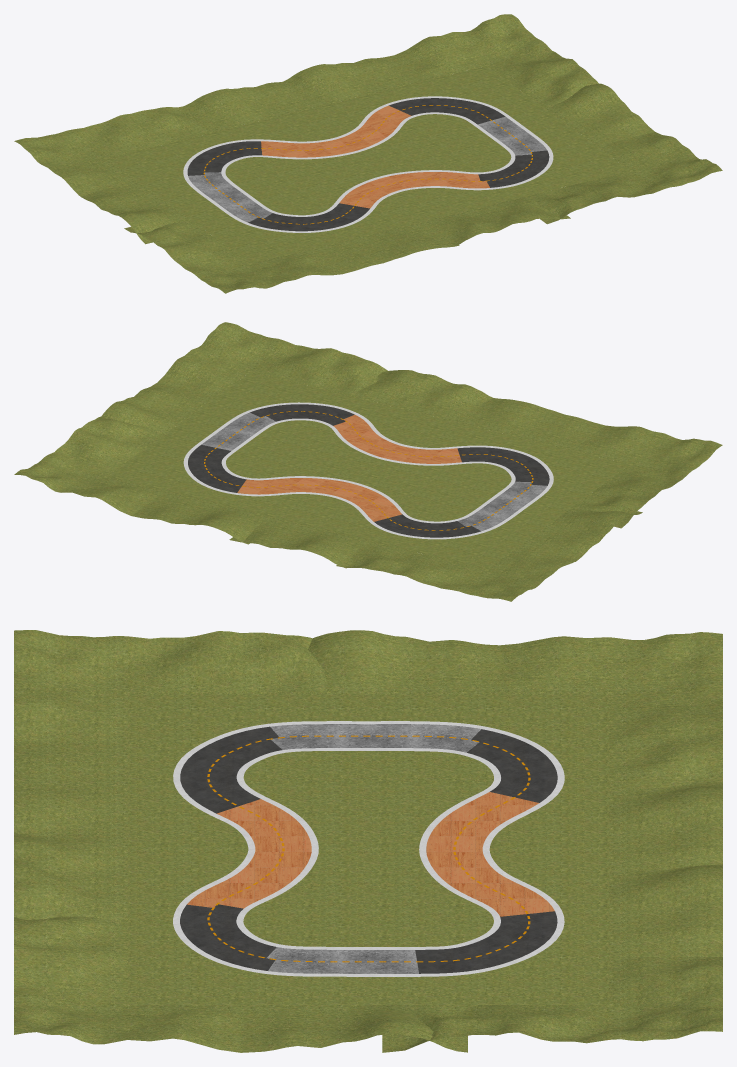
The model's file is bowtie_eval_01.dae.
3 views of the same model, one above another, from view 1: azimuth 30°, elevation 25°; view 2: azimuth 150°, elevation 25°; view 3: azimuth 270°, elevation 25° (orthographic). The views are drawn at different scales.
Parts seen in each view (by area): view 1: bg_terrain, field, road, outerLine, innerLine, centerLine; view 2: bg_terrain, field, road, outerLine, innerLine, centerLine; view 3: bg_terrain, field, road, outerLine, innerLine, centerLine.
Boxes of the visible parts, x1,y1,x2,y2 form: bg_terrain: [14, 14, 722, 293]; field: [107, 66, 629, 263]; road: [187, 98, 549, 231]; outerLine: [183, 96, 553, 232]; innerLine: [221, 112, 515, 216]; centerLine: [203, 105, 532, 224]; bg_terrain: [14, 322, 722, 601]; field: [107, 372, 629, 569]; road: [188, 404, 549, 537]; outerLine: [183, 402, 553, 539]; innerLine: [221, 418, 515, 523]; centerLine: [204, 411, 533, 530]; bg_terrain: [14, 630, 722, 1052]; field: [127, 693, 609, 1004]; road: [180, 724, 557, 973]; outerLine: [173, 721, 564, 976]; innerLine: [236, 748, 500, 949]; centerLine: [207, 735, 530, 962].
Size of the model in its own units: 10.36 by 7.62 by 0.2962.
Materials: 8 (8 with a texture image).
